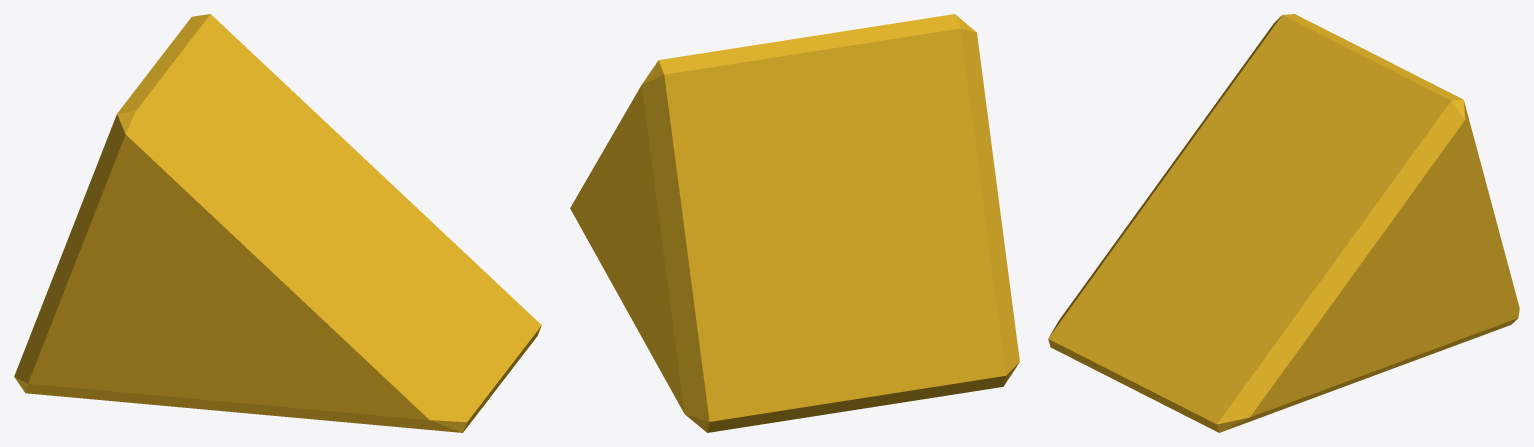
File: Cheese01.fbx
The picture shows the model from 3 angles, left to right: view 1: azimuth 30°, elevation 25°; view 2: azimuth 150°, elevation 25°; view 3: azimuth 270°, elevation 25°; orthographic projection. The views are drawn at different scales.
Parts seen in each view (by area): view 1: CheeseWedge.002; view 2: CheeseWedge.002; view 3: CheeseWedge.002.
Part boxes in pixels (x1,y1,x2,y2): CheeseWedge.002: [14, 14, 541, 432]; CheeseWedge.002: [570, 14, 1019, 432]; CheeseWedge.002: [1048, 14, 1519, 432].
Size of the model in its own units: 58.03 by 36.9 by 58.48.
